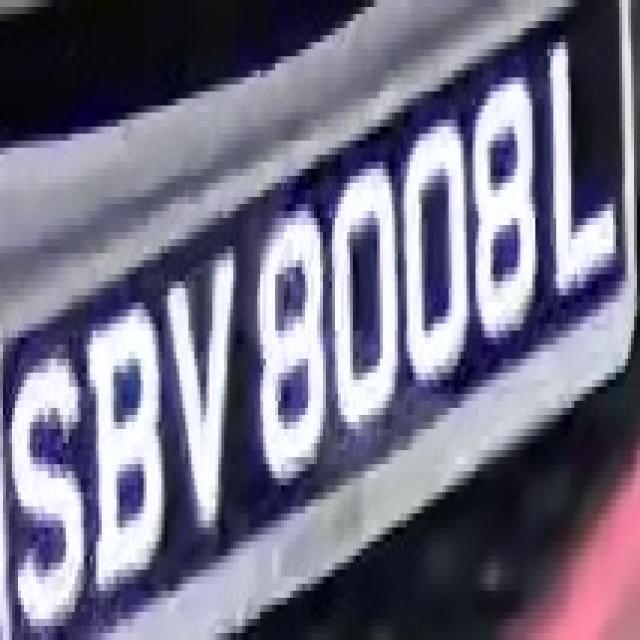0: (320, 148, 404, 464), (389, 127, 478, 422)
8: (245, 183, 335, 506), (466, 56, 536, 359)
B: (72, 295, 161, 605)
L: (541, 14, 613, 295)
V: (159, 253, 245, 570)
